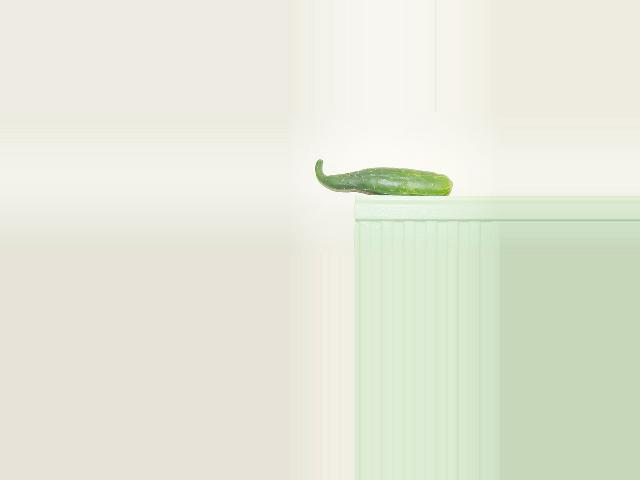cucumber: (314, 159, 452, 196)
